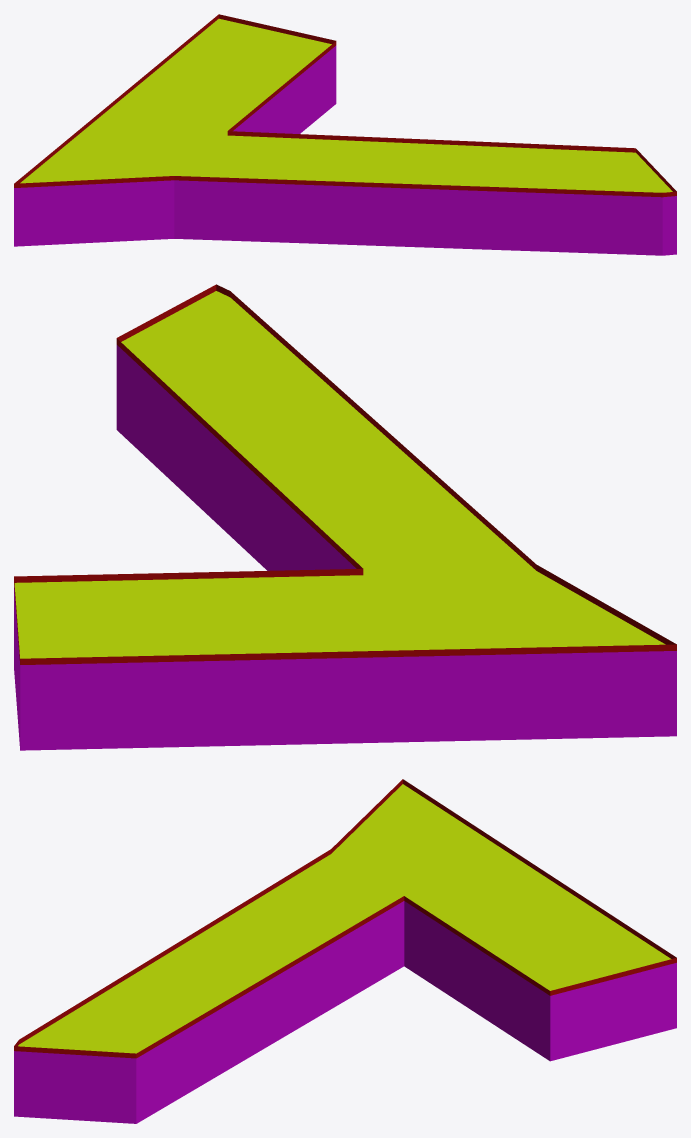
Rendered from rmc_16.glb.
3 renders of one model, top to bottom at view 1: azimuth 30°, elevation 25°; view 2: azimuth 150°, elevation 25°; view 3: azimuth 270°, elevation 25°, orthographic. The views are drawn at different scales.
Parts seen in each view (by area): view 1: rmc_16; view 2: rmc_16; view 3: rmc_16.
Boxes of the visible parts, x1,y1,x2,y2 form: rmc_16: (14,14,676,255); rmc_16: (14,284,676,750); rmc_16: (14,779,676,1123).
Size of the model in its own units: 41.78 by 5 by 42.64.
